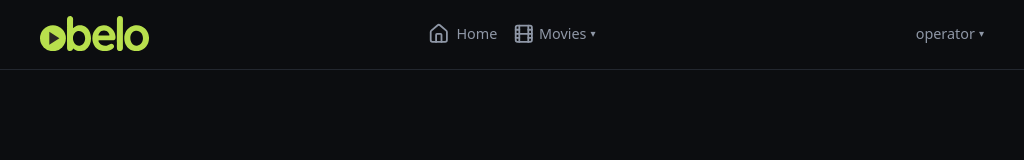
Scenario: AppHeader — linked libraries in the nav (issue 18) › names the sharing server on a linked entry inside the kind dropdown
Click the button with test id "nav-movies".
click(554, 34)  # box [513, 23, 596, 44]
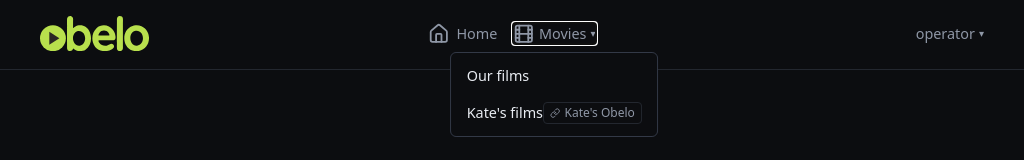
Expected: the element with test id "linked-badge" reads "Kate's Obelo", [565, 104, 635, 121]
